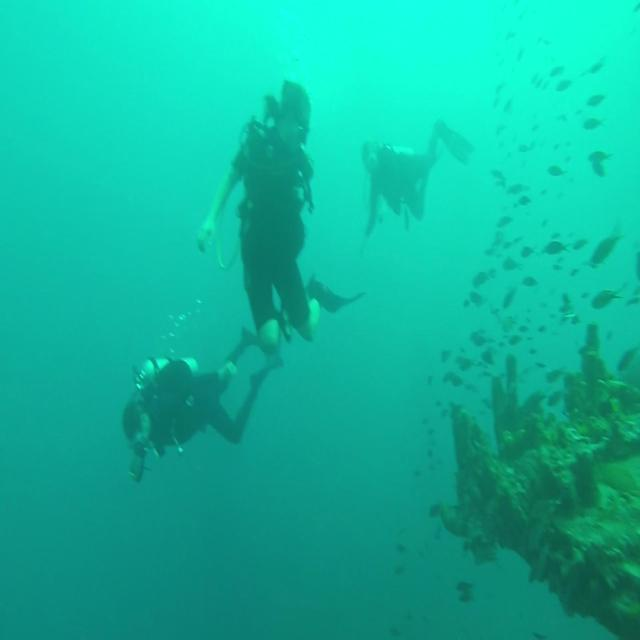human: (196, 78, 366, 378), (122, 324, 283, 483), (358, 115, 474, 254)
